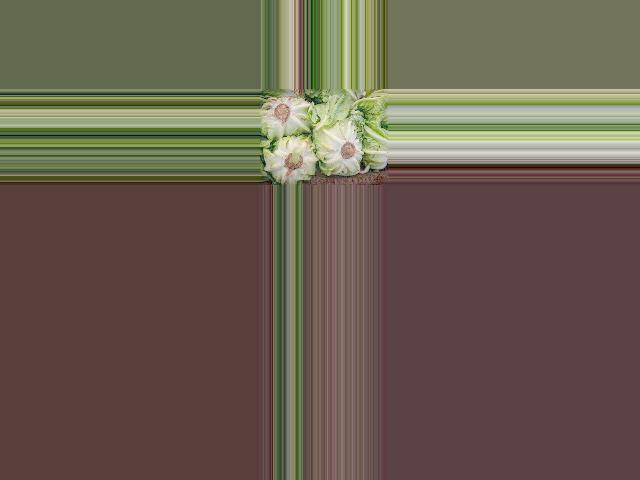lettuce: (260, 95, 310, 138)
